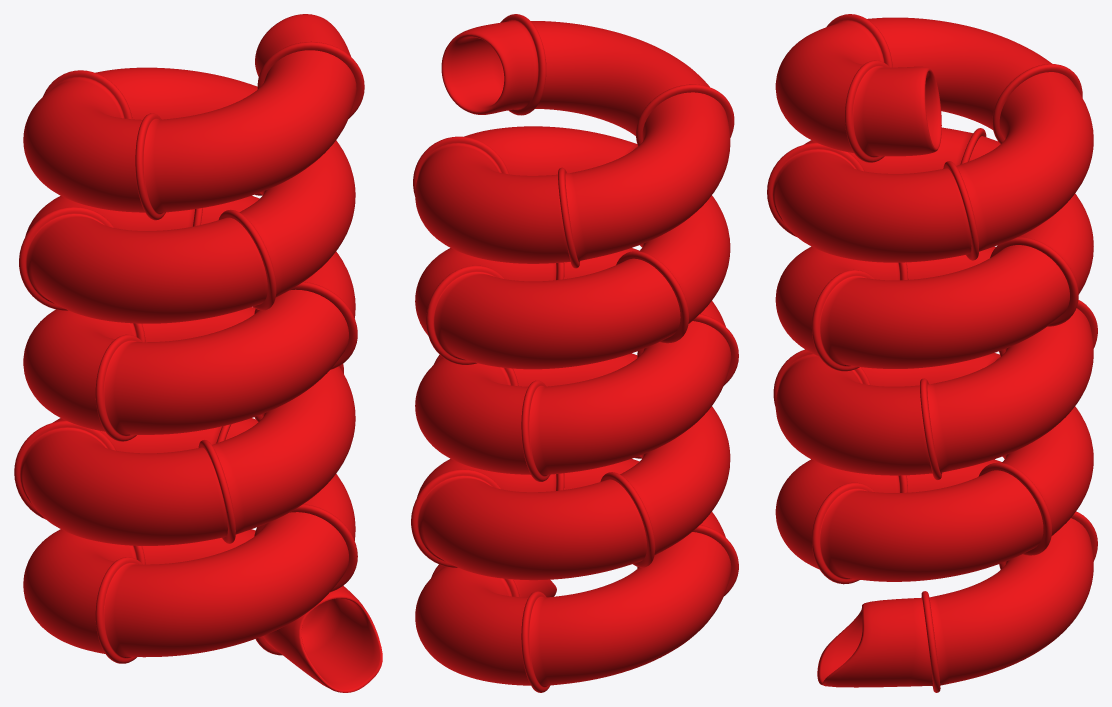
The model's file is SpiralCenter.fbx.
3 views of the same model, side by side, from view 1: azimuth 30°, elevation 25°; view 2: azimuth 150°, elevation 25°; view 3: azimuth 270°, elevation 25° (orthographic). The views are drawn at different scales.
Parts seen in each view (by area): view 1: Spiral.001; view 2: Spiral.001; view 3: Spiral.001.
Part boxes in pixels (<box>): Spiral.001: <box>14,14,382,692</box>; Spiral.001: <box>411,14,738,692</box>; Spiral.001: <box>767,14,1097,692</box>.
Bounding box in the file's own units: 696 × 1438 × 700.
